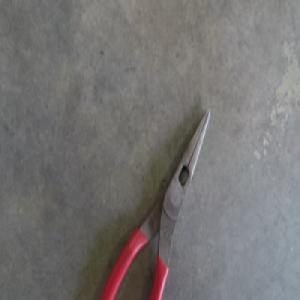Pliers: (100, 106, 210, 299)
